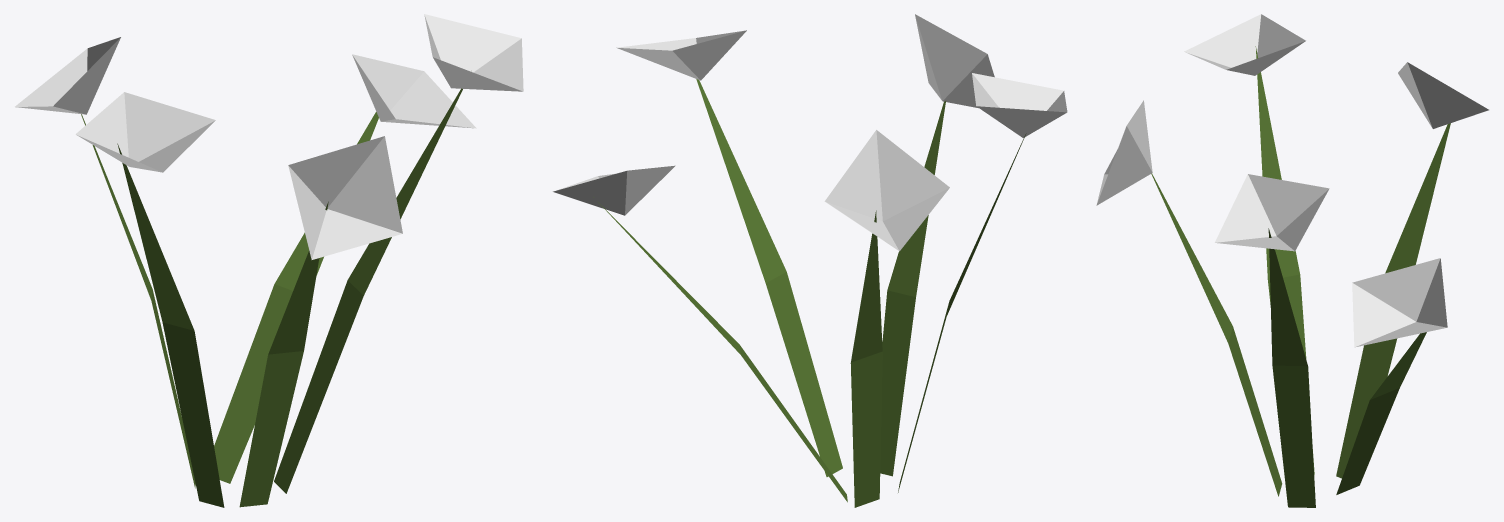
Rendered from Flower_2.fbx.
3 renders of one model, left to right at view 1: azimuth 30°, elevation 25°; view 2: azimuth 150°, elevation 25°; view 3: azimuth 270°, elevation 25°, orthographic. The views are drawn at different scales.
Parts seen in each view (by area): view 1: Grass_2; view 2: Grass_2; view 3: Grass_2.
Boxes of the visible parts, left/top/right/bottom form: Grass_2: left=15, top=14, right=523, bottom=507; Grass_2: left=553, top=14, right=1067, bottom=507; Grass_2: left=1096, top=14, right=1488, bottom=507.
Size of the model in its own units: 82.56 by 74 by 65.63.
